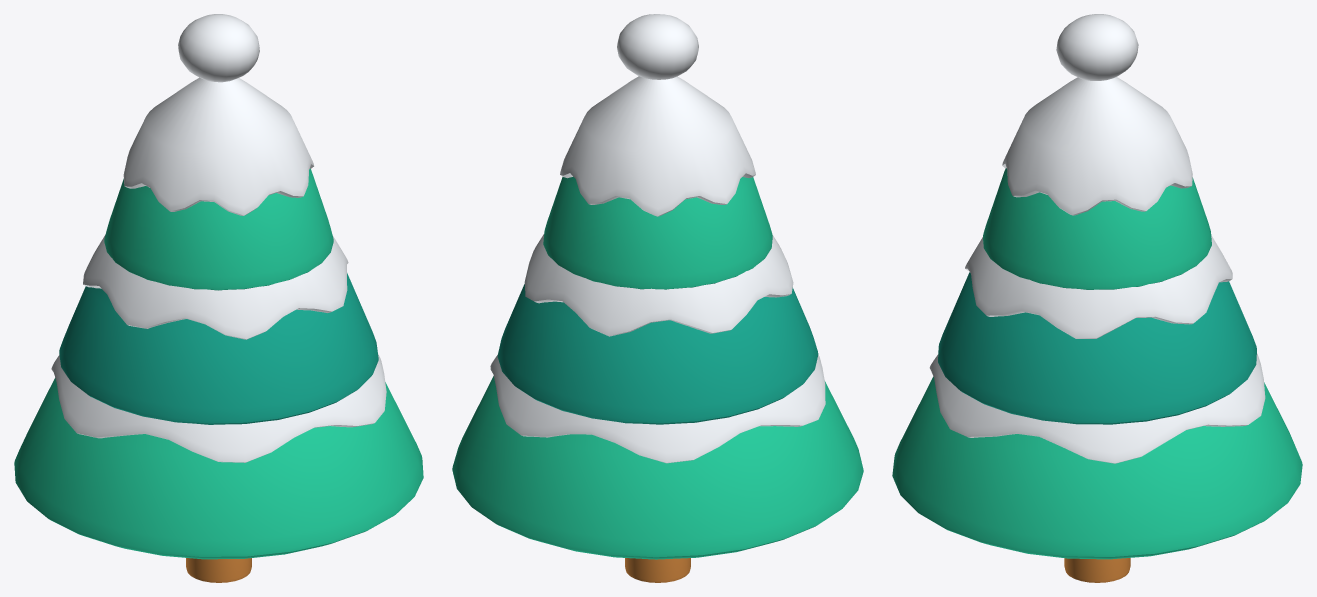
File: SnowFirB.glb
The picture shows the model from 3 angles, left to right: view 1: azimuth 30°, elevation 25°; view 2: azimuth 150°, elevation 25°; view 3: azimuth 270°, elevation 25°; orthographic projection.
Parts seen in each view (by area): view 1: SnowFirB; view 2: SnowFirB; view 3: SnowFirB.
Part boxes in pixels (x1,y1,x2,y2): SnowFirB: (14, 14, 423, 582); SnowFirB: (452, 14, 863, 582); SnowFirB: (892, 14, 1302, 582).
Bounding box in the file's own units: 10.94 × 16.21 × 10.94.
Materials: 1 (1 with a texture image).
